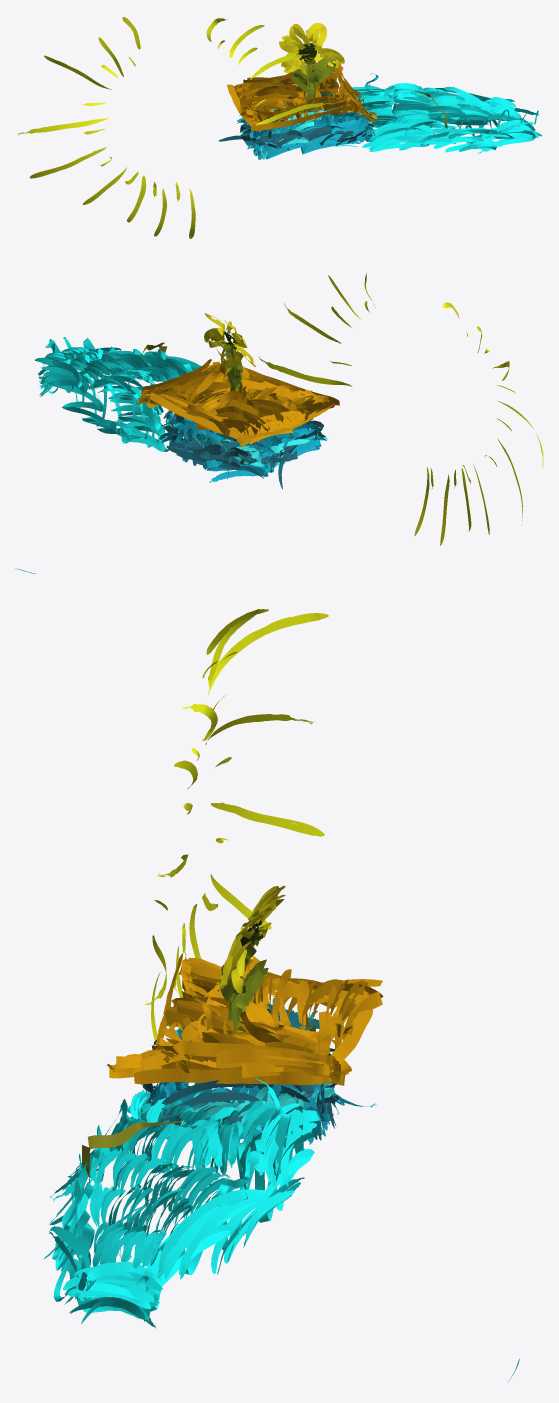
3 renders of one model, top to bottom at view 1: azimuth 30°, elevation 25°; view 2: azimuth 150°, elevation 25°; view 3: azimuth 270°, elevation 25°, orthographic. The views are drawn at different scales.
Parts seen in each view (by area): view 1: brush_WetPaint_g0_b1_4, brush_WetPaint_g0_b0_3, brush_DoubleTaperedMarker_g0_b0_0; view 2: brush_DoubleTaperedMarker_g0_b0_0, brush_WetPaint_g0_b1_4, brush_WetPaint_g0_b0_3; view 3: brush_WetPaint_g0_b1_4, brush_DoubleTaperedMarker_g0_b0_0, brush_WetPaint_g0_b0_3.
Part boxes in pixels (x1=…): brush_WetPaint_g0_b1_4: x1=17, y1=17, x2=520, y2=238; brush_WetPaint_g0_b0_3: x1=218, y1=83, x2=542, y2=159; brush_DoubleTaperedMarker_g0_b0_0: x1=227, y1=23, x2=447, y2=132; brush_DoubleTaperedMarker_g0_b0_0: x1=136, y1=313, x2=339, y2=447; brush_WetPaint_g0_b1_4: x1=15, y1=273, x2=543, y2=573; brush_WetPaint_g0_b0_3: x1=38, y1=337, x2=328, y2=489; brush_WetPaint_g0_b1_4: x1=76, y1=609, x2=519, y2=1381; brush_DoubleTaperedMarker_g0_b0_0: x1=82, y1=885, x2=383, y2=1177; brush_WetPaint_g0_b0_3: x1=44, y1=997, x2=376, y2=1328.
Bounding box in the file's own units: 3.06 × 1.52 × 1.34.
Materials: 2 (1 with a texture image).
